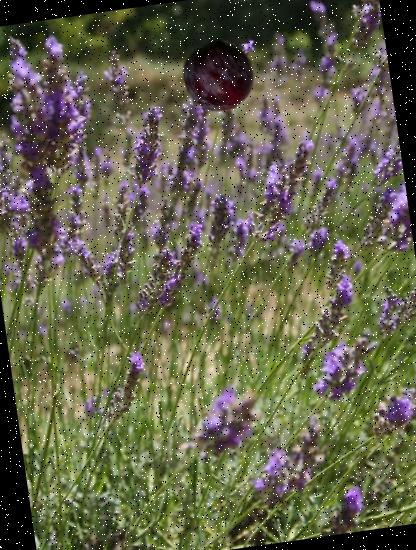Plum: (180, 36, 261, 117)
